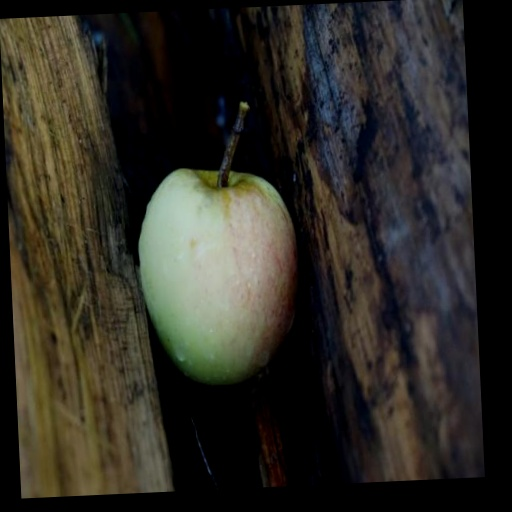fruit: (139, 103, 298, 384)
